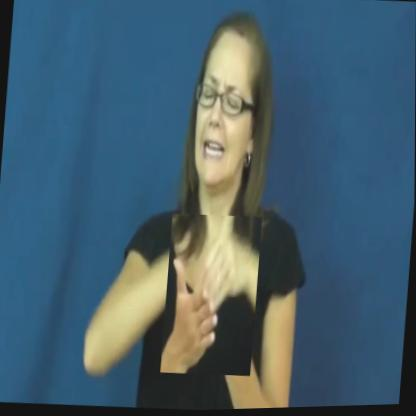Expensive: (161, 212, 263, 380)
